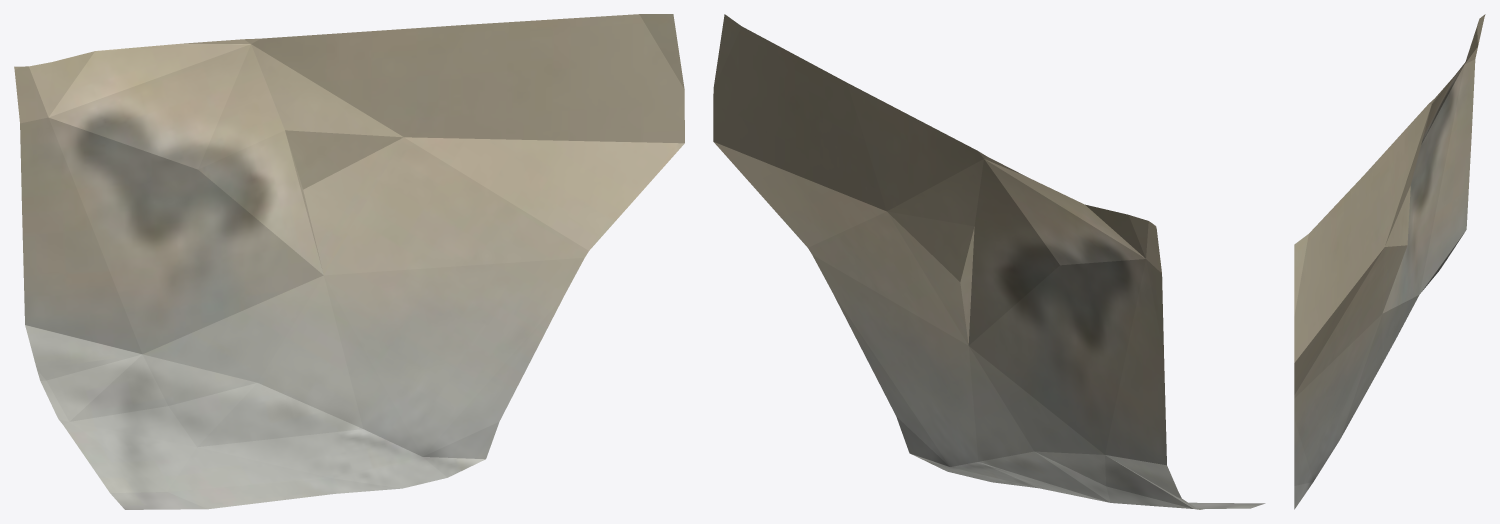
The picture shows the model from 3 angles, left to right: view 1: azimuth 30°, elevation 25°; view 2: azimuth 150°, elevation 25°; view 3: azimuth 270°, elevation 25°; orthographic projection. The views are drawn at different scales.
Size of the model in its own units: 0.7294 by 0.5089 by 0.2505.
2 materials, 2 textured.
